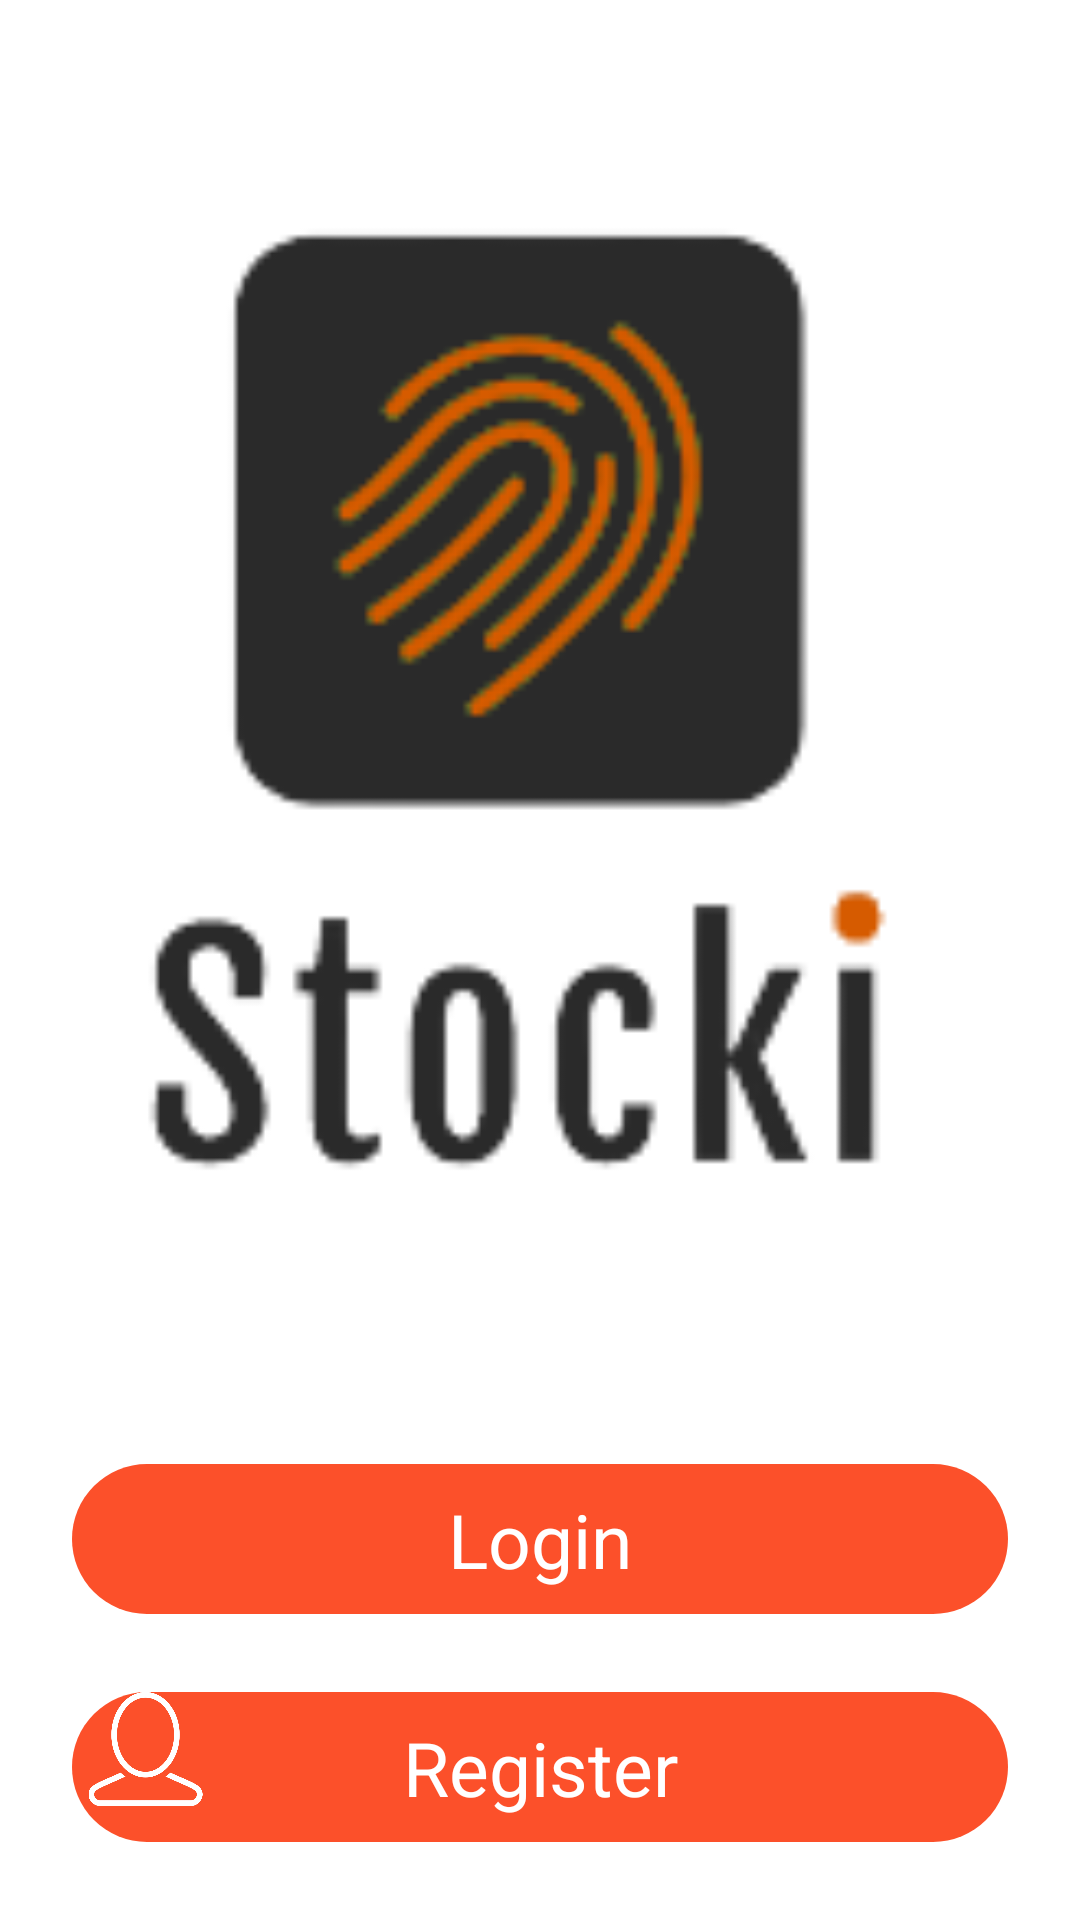

Named icons in this screenshot (1080×1920) and their centers, [x,y]:
utilisateur: [145,1749]
